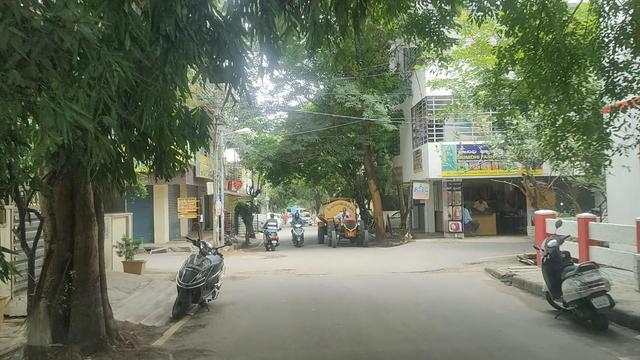HMV: (308, 192, 372, 245)
LMV: (528, 209, 614, 333), (174, 210, 234, 323), (262, 207, 288, 251)
RoadDamages: (258, 261, 332, 284), (381, 260, 478, 277)
